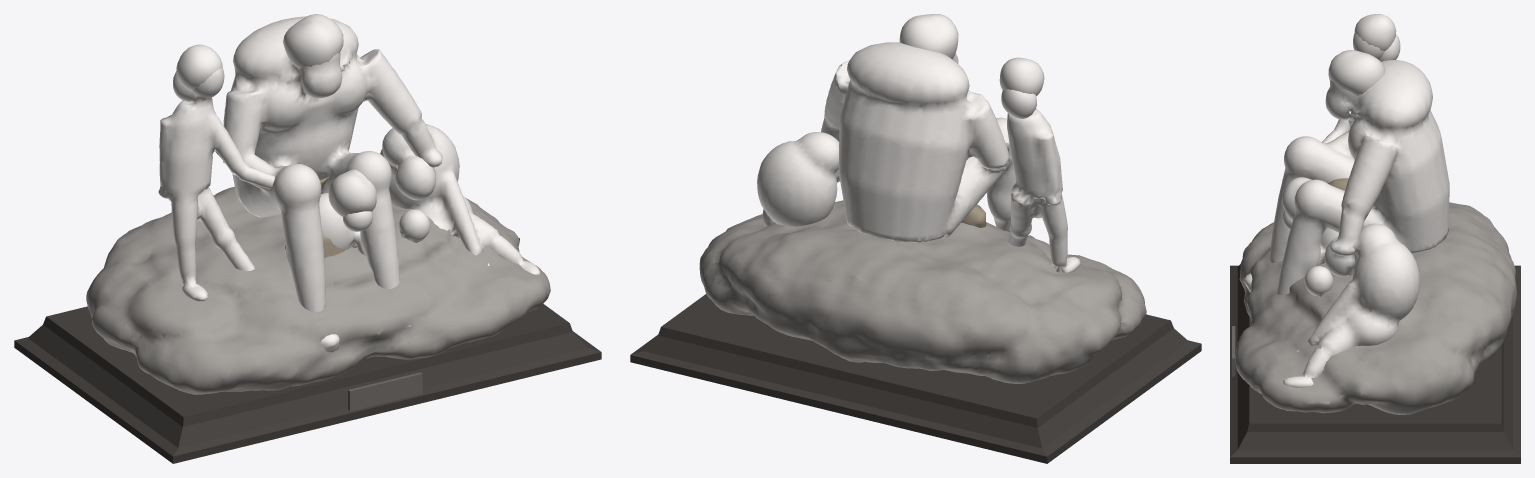
3 views of the same model, side by side, from view 1: azimuth 30°, elevation 25°; view 2: azimuth 150°, elevation 25°; view 3: azimuth 270°, elevation 25° (orthographic). The views are drawn at different scales.
Parts seen in each view (by area): view 1: LabelPlate, DisplayBase; view 2: LabelPlate, DisplayBase; view 3: LabelPlate, DisplayBase.
Boxes of the visible parts, x1,y1,x2,y2 form: LabelPlate: (86, 14, 550, 411); DisplayBase: (14, 303, 601, 463); LabelPlate: (699, 14, 1146, 383); DisplayBase: (630, 294, 1201, 463); LabelPlate: (1232, 14, 1516, 414); DisplayBase: (1230, 264, 1520, 463).
Size of the model in its own units: 2.12 by 1.62 by 1.36.
2 materials, 2 textured.
